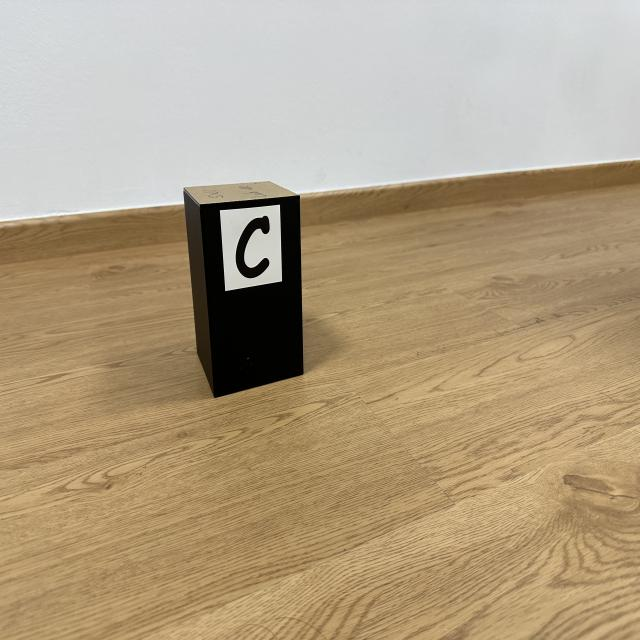C: (235, 217, 270, 278)
